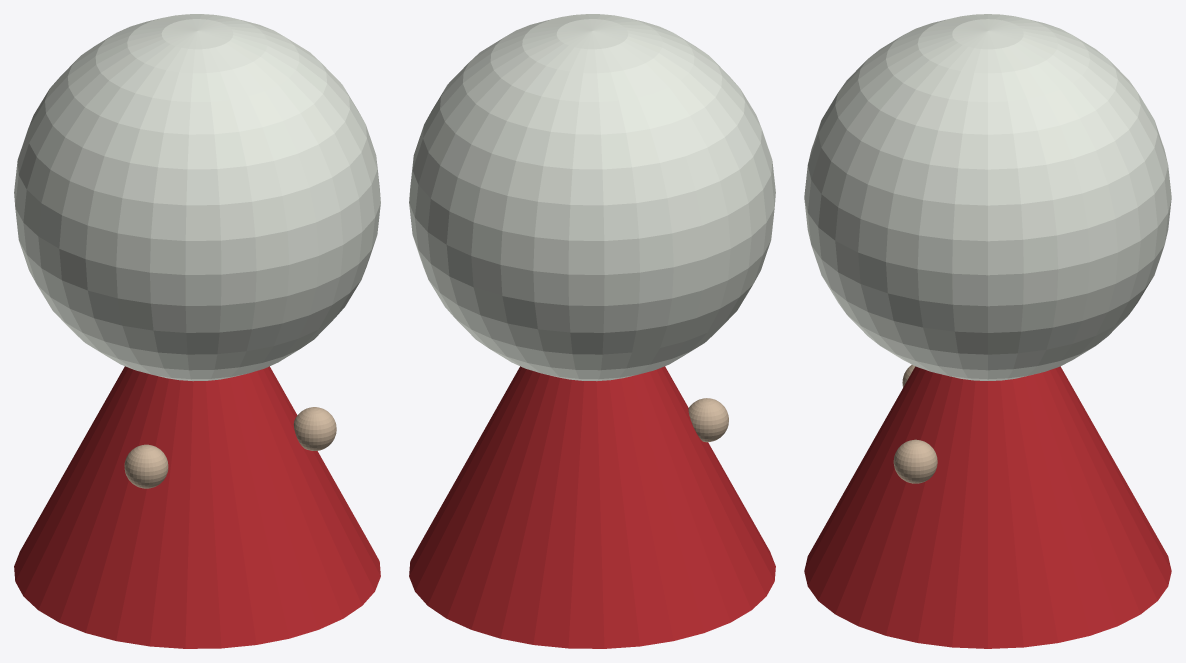
File: host.gltf
The picture shows the model from 3 angles, left to right: view 1: azimuth 30°, elevation 25°; view 2: azimuth 150°, elevation 25°; view 3: azimuth 270°, elevation 25°; orthographic projection.
Parts seen in each view (by area): view 1: 球.002, 円錐, 球, 球.001; view 2: 球.002, 円錐, 球; view 3: 球.002, 円錐, 球.001.
Boxes of the visible parts, box(x1,y1,x2,y2) form: 球.002: box(14, 14, 380, 381); 円錐: box(14, 366, 380, 648); 球: box(124, 444, 168, 488); 球.001: box(293, 407, 336, 450); 球.002: box(409, 14, 775, 381); 円錐: box(409, 366, 775, 648); 球: box(688, 398, 728, 442); 球.002: box(804, 14, 1171, 380); 円錐: box(804, 366, 1171, 648); 球.001: box(893, 439, 937, 483).
Size of the model in its own units: 2 by 3.24 by 2.
4 materials, 3 textured.
